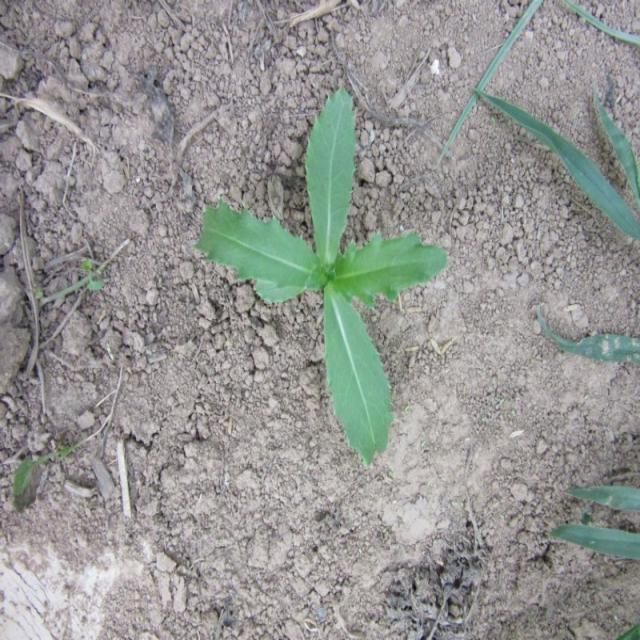field_thistle: (188, 98, 464, 455)
